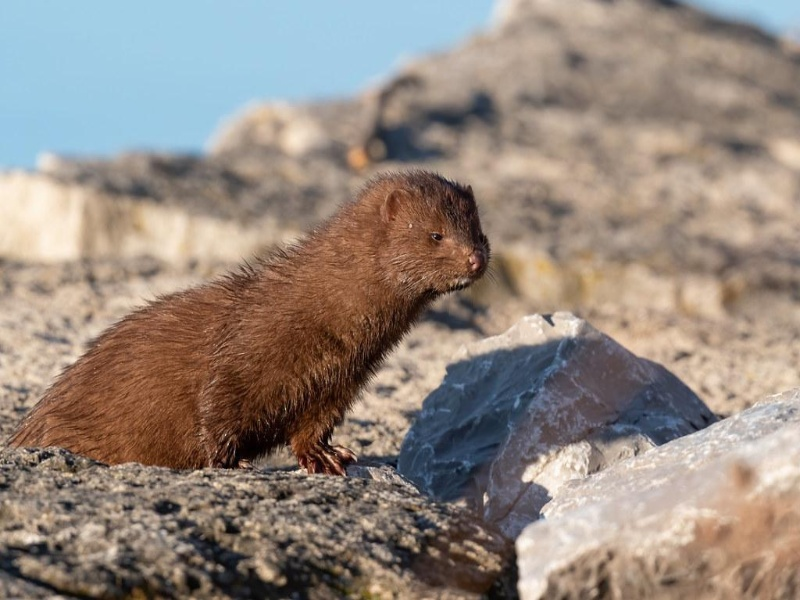minkish: (21, 163, 493, 480)
